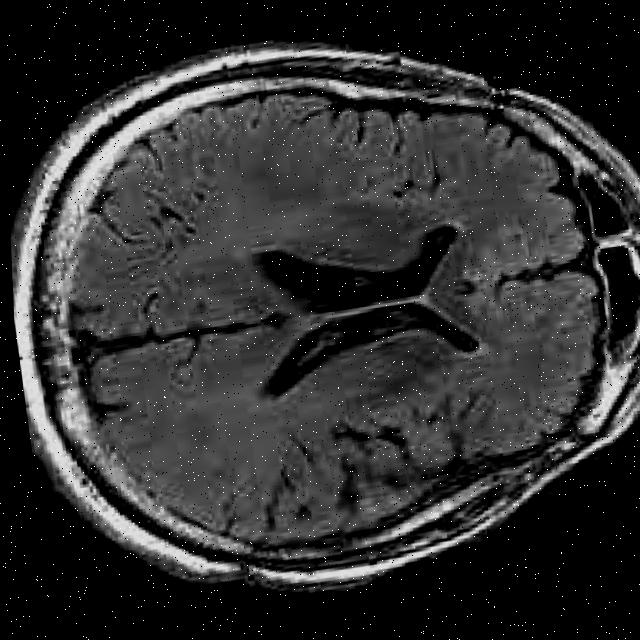NoTumor: (1, 0, 640, 640)
